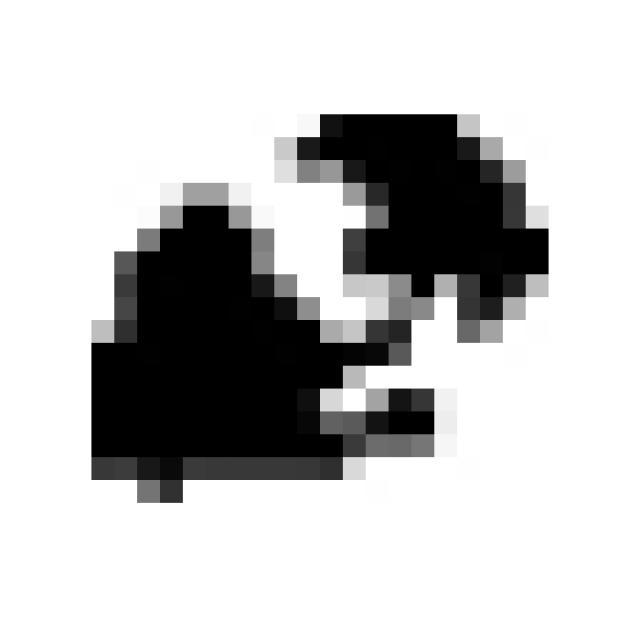0 -zero-: (73, 87, 567, 524)
